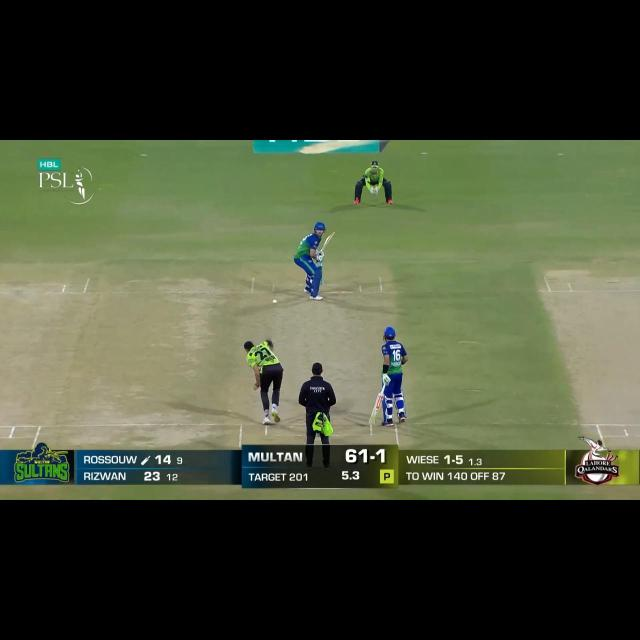bat: (368, 394, 385, 424), (320, 232, 334, 252)
toe: (368, 414, 377, 424), (326, 232, 334, 242)
